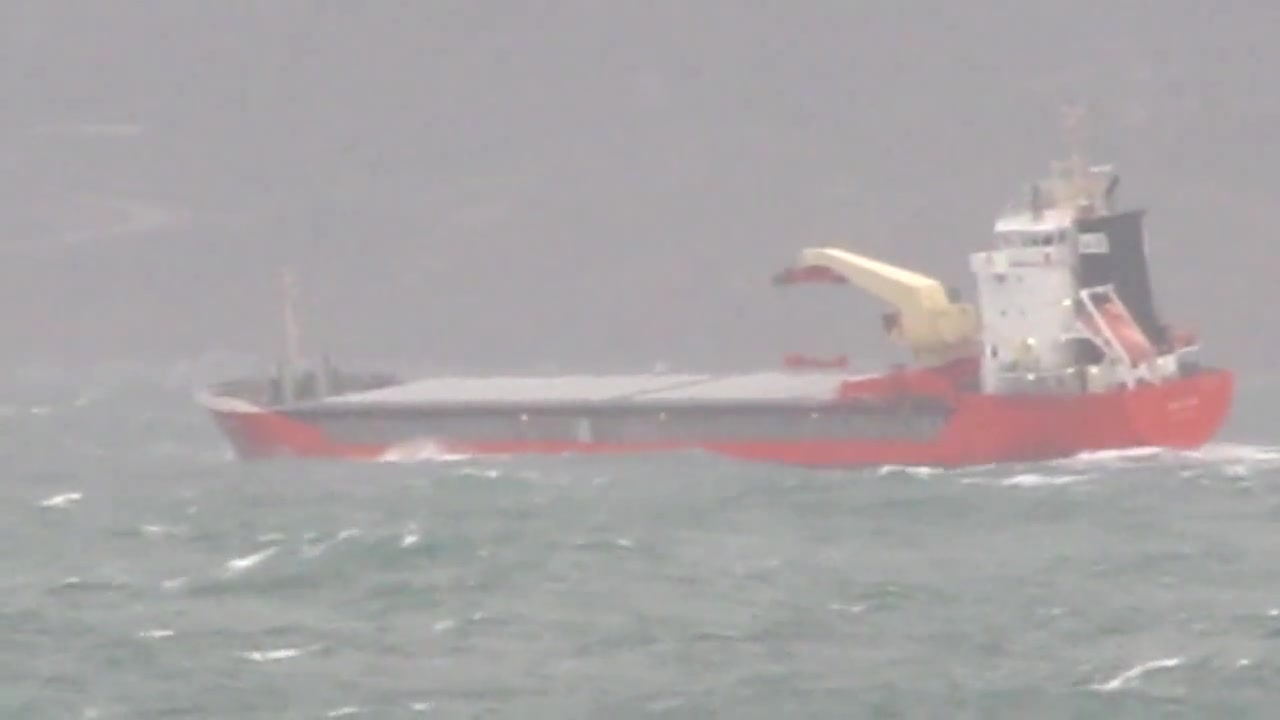boat: (196, 106, 1244, 481)
